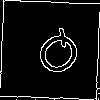Q: (24, 24, 88, 87)
